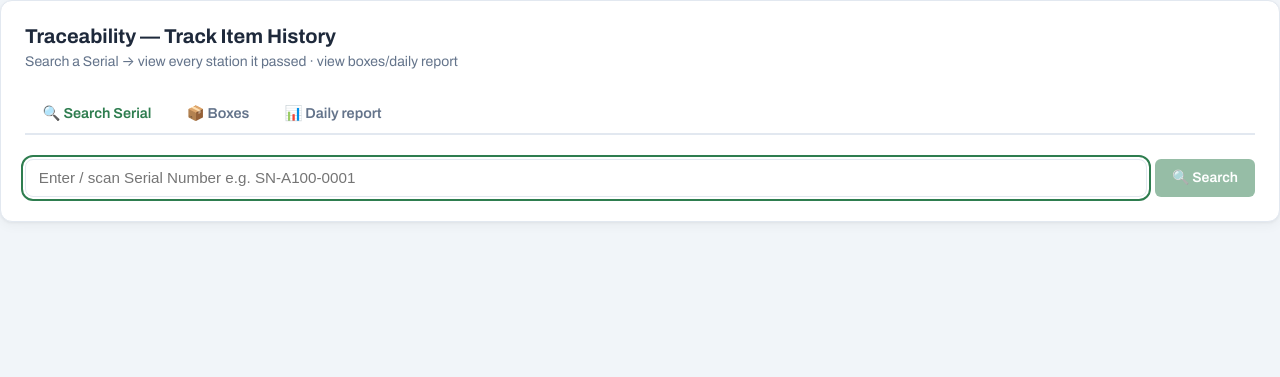
Test: TraceabilityPage (#50) › ค้น serial → โชว์ timeline จากข้อมูลจริง
Type "SN-1" into the field named "Search Serial Number". click: point(586, 178)
box: [25,159,1147,197]
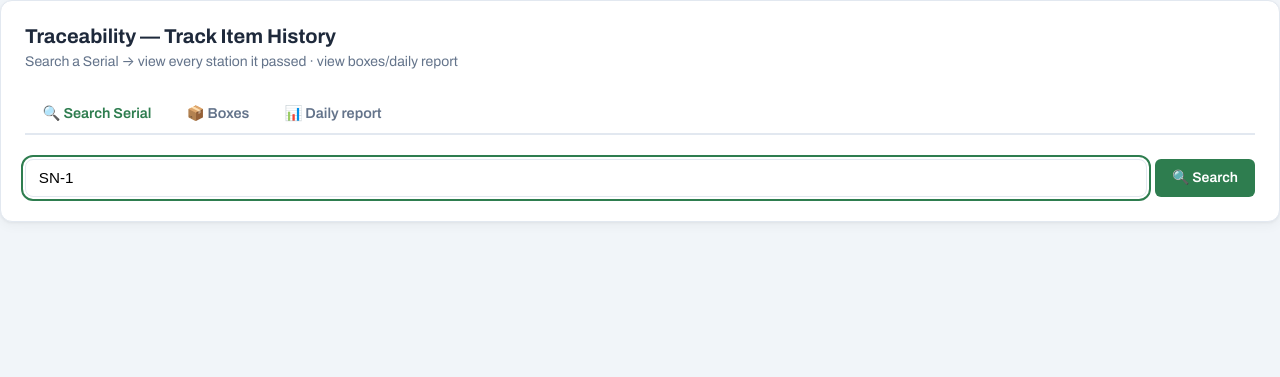
Click the button "🔍 Search". click: point(1205, 178)
box: [1155,159,1255,197]
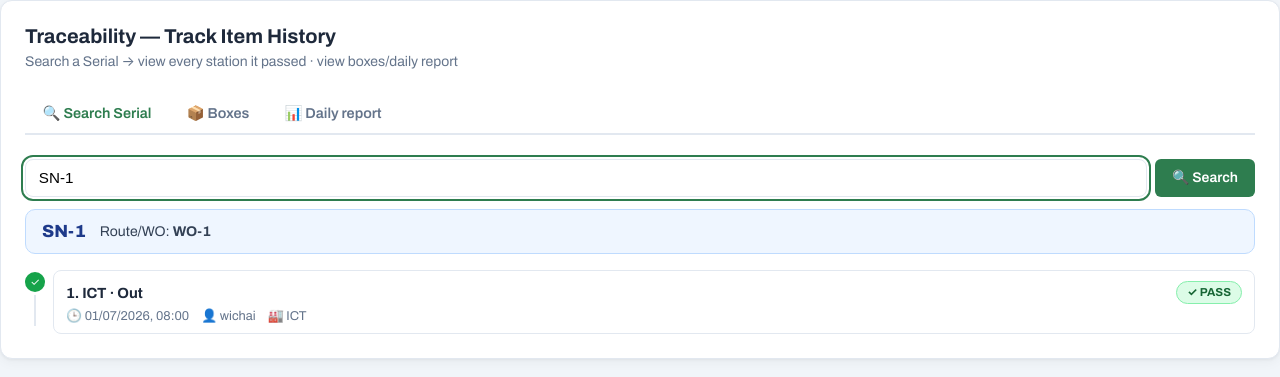
Result: the text "1. ICT · Out" is shown at [66,285,143,301]
